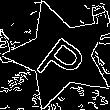P_NE: (30, 24, 92, 86)
